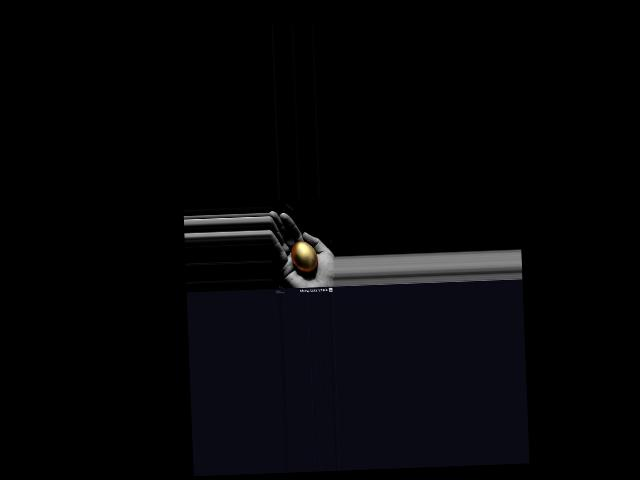egg: (290, 240, 317, 272)
